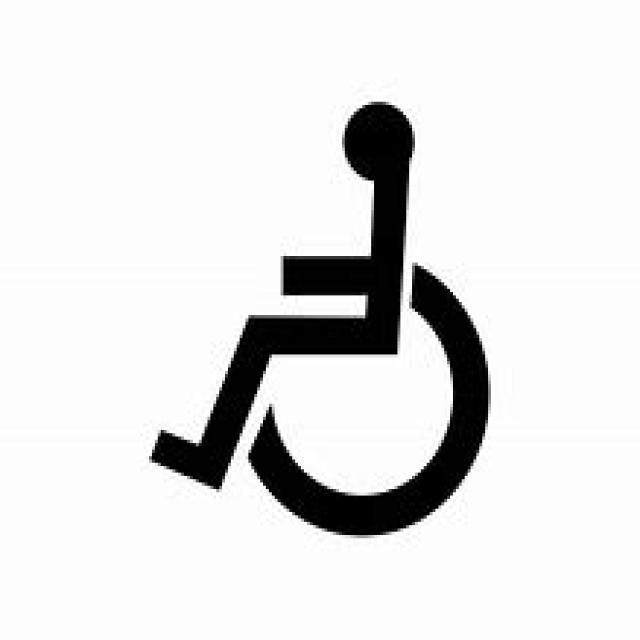car-handicap-placard: (142, 93, 497, 544)
